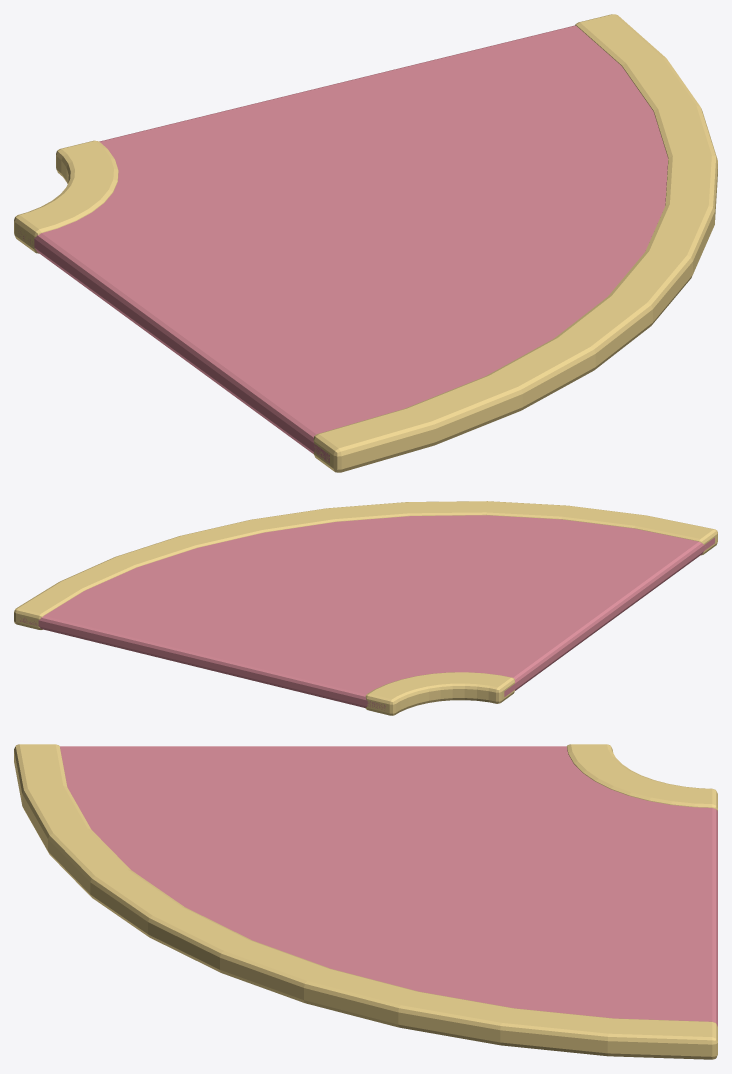
The model's file is opera_carpet_turn.glb.
3 views of the same model, one above another, from view 1: azimuth 30°, elevation 25°; view 2: azimuth 150°, elevation 25°; view 3: azimuth 270°, elevation 25° (orthographic). The views are drawn at different scales.
Visible parts, largest first — view 1: opera_carpet_turn.001; view 2: opera_carpet_turn.001; view 3: opera_carpet_turn.001.
Part boxes in pixels (bbox=[...]): opera_carpet_turn.001: bbox=[14, 14, 717, 472]; opera_carpet_turn.001: bbox=[14, 501, 717, 715]; opera_carpet_turn.001: bbox=[14, 744, 717, 1059].
Bounding box in the file's own units: 6.26 × 0.22 × 6.26.
